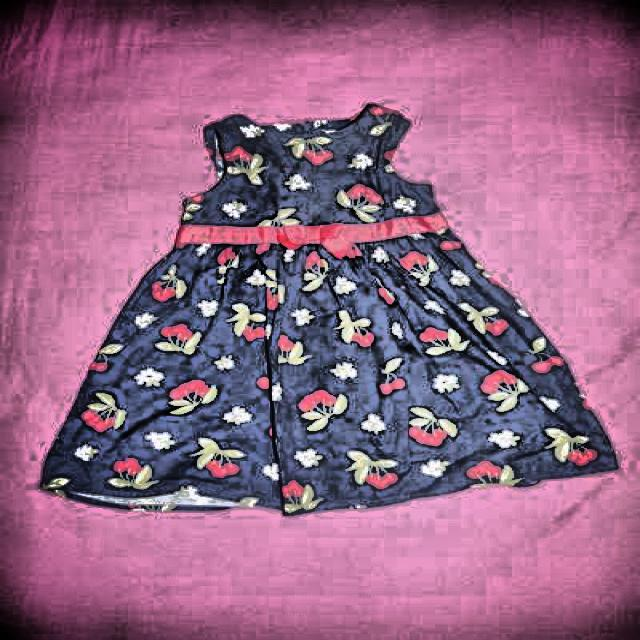clothes: (42, 101, 619, 516)
